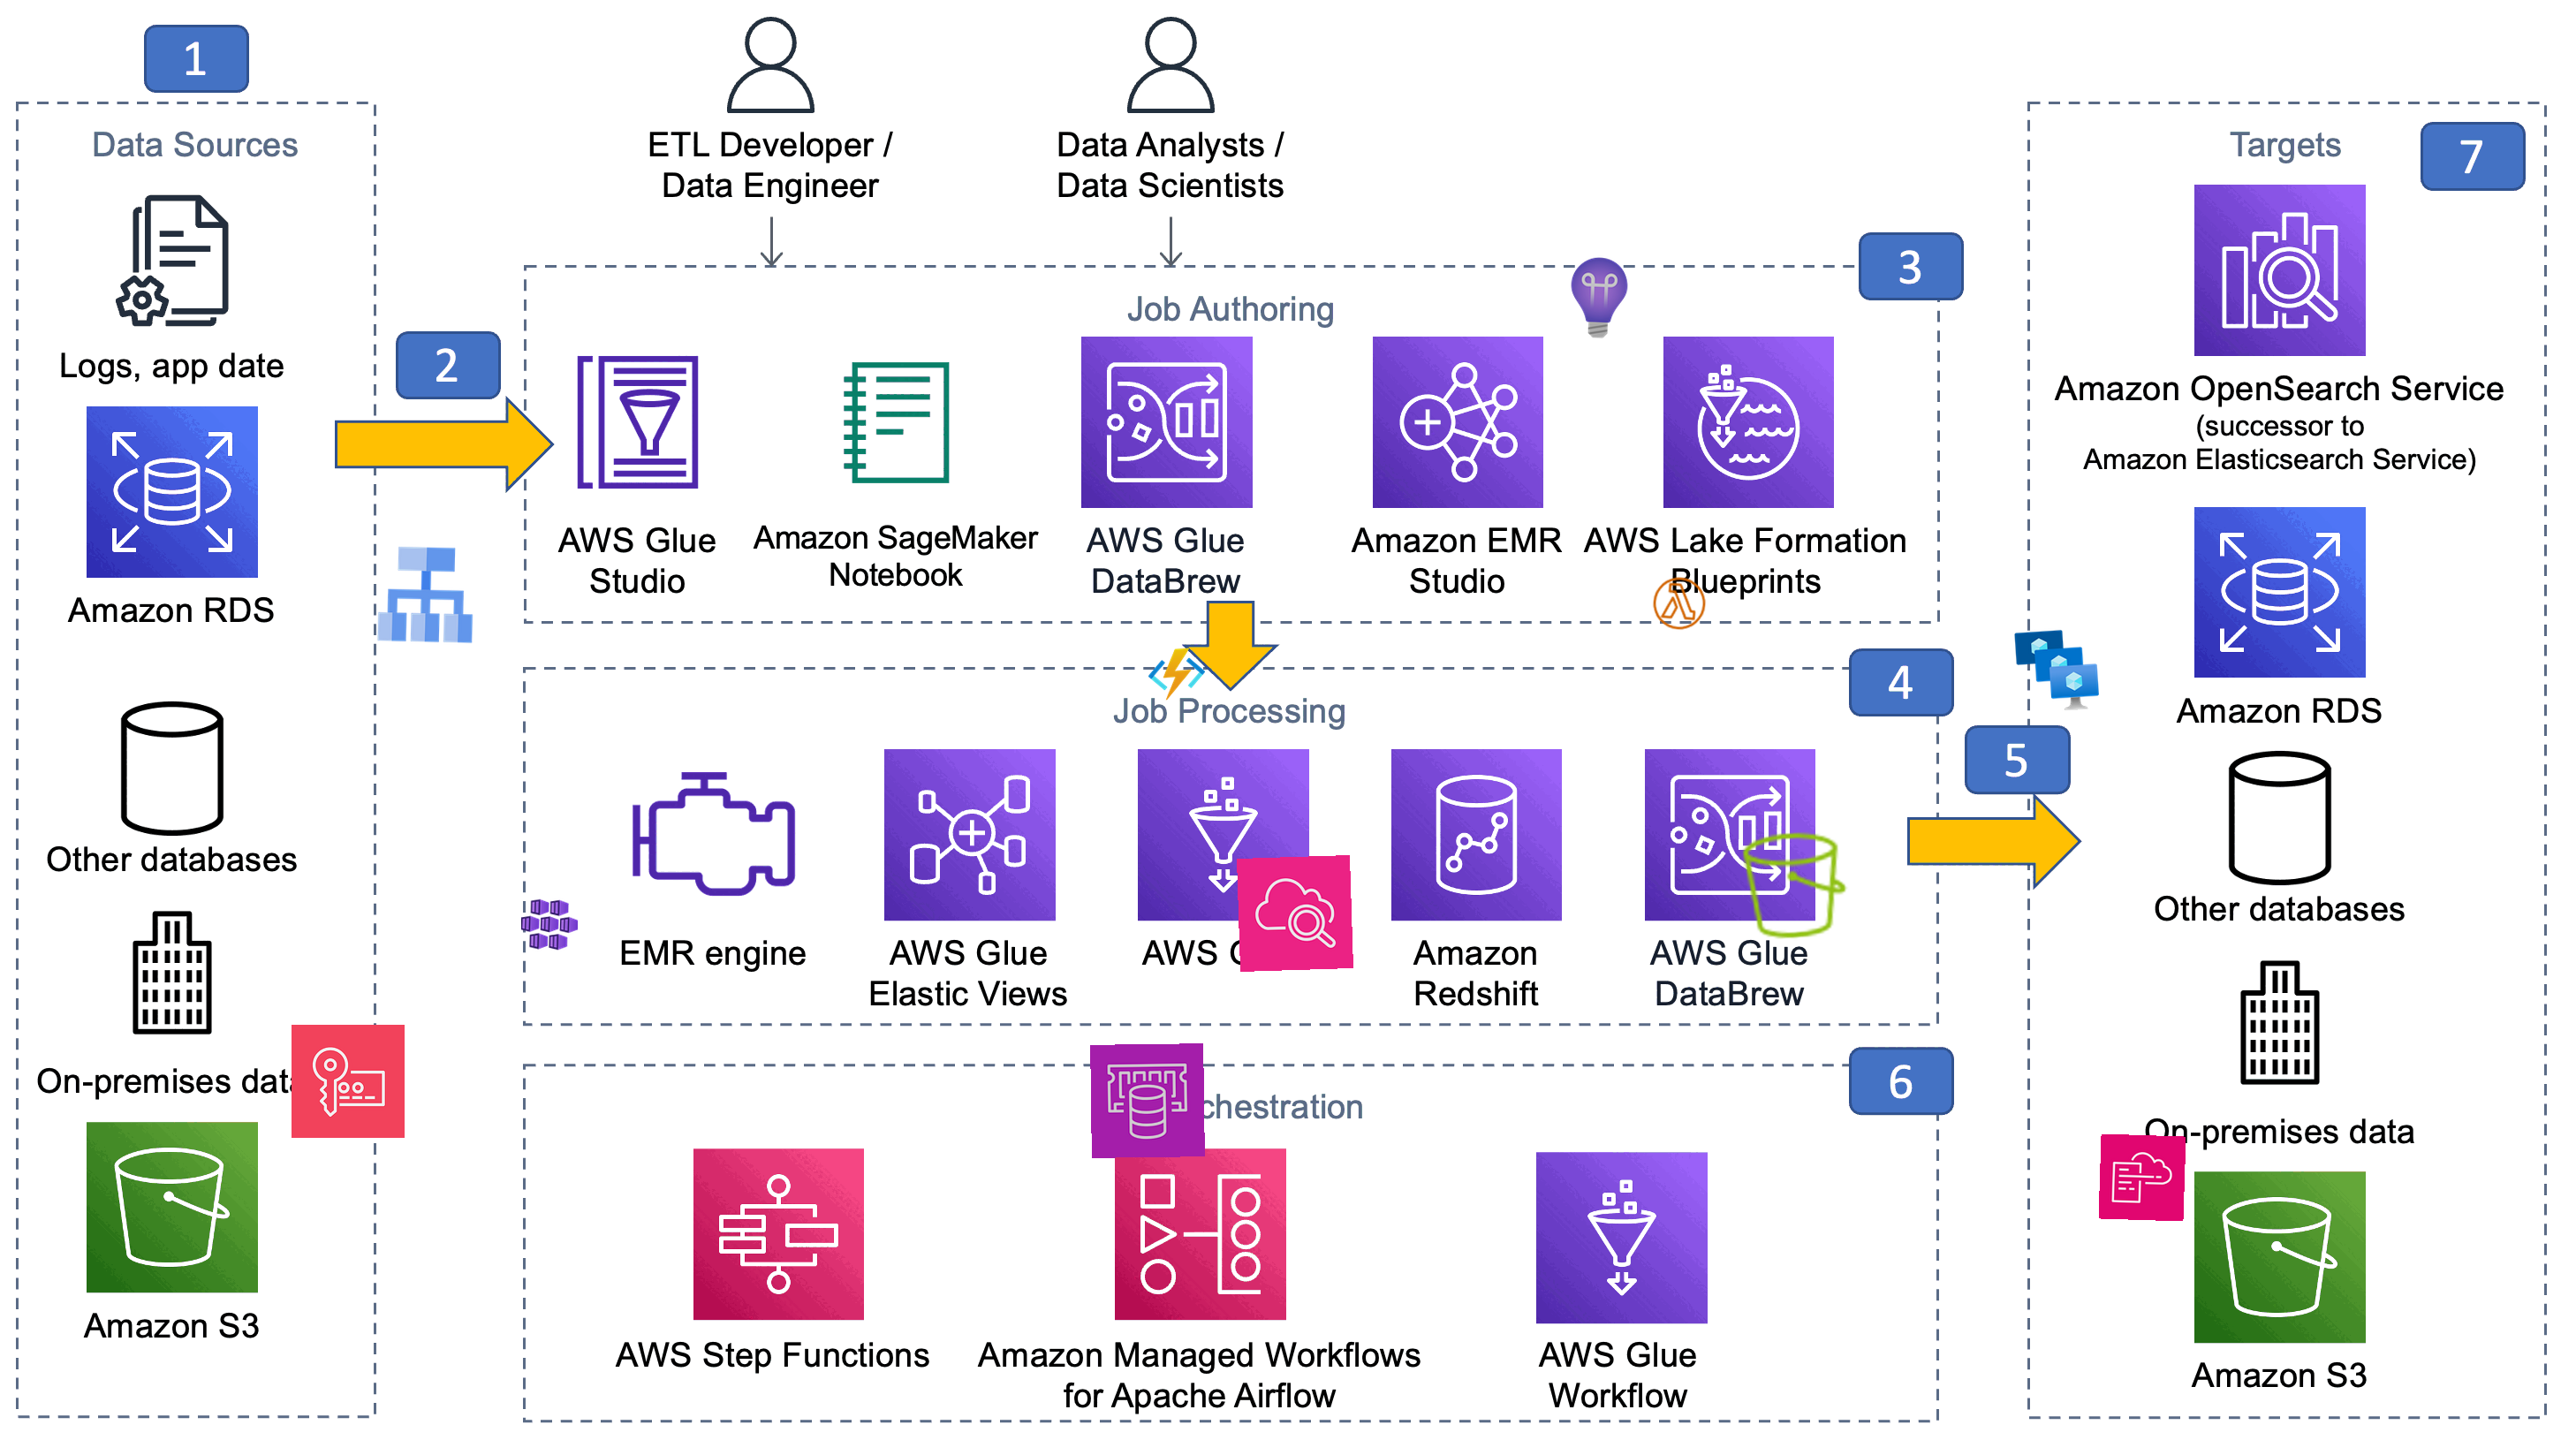aws_amazon_cloudwatch: (1237, 854, 1353, 973)
aws_amazon_elasticache: (1090, 1044, 1205, 1159)
aws_cloudformation: (2098, 1134, 2187, 1222)
aws_key_management_service: (290, 1024, 405, 1139)
aws_lambda_lambda_function: (1649, 573, 1711, 635)
aws_simple_storage_service_s3_standard: (1736, 824, 1856, 945)
azure_application_insights: (1555, 253, 1644, 341)
azure_function_apps: (1146, 644, 1208, 706)
azure_kubernetes_services: (520, 895, 579, 954)
azure_vm_scale_sets: (2010, 623, 2102, 715)
gcp_cloud_load_balancing: (368, 536, 485, 653)
